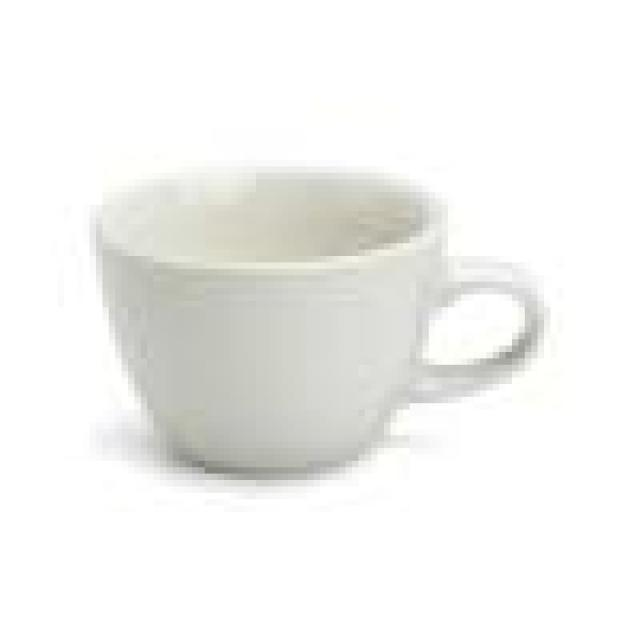taza: (83, 134, 553, 482)
